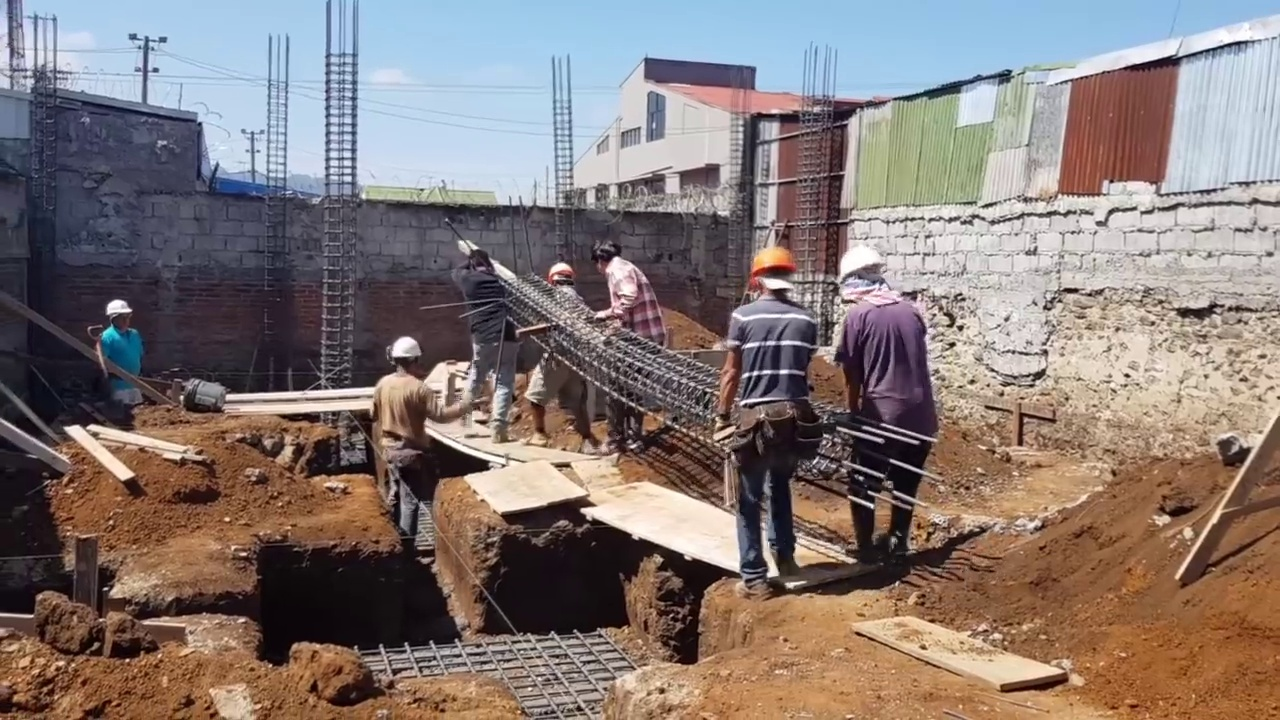helmet: (837, 243, 886, 290), (745, 246, 798, 286), (390, 336, 423, 360), (553, 263, 579, 282), (106, 302, 130, 321)
helmet-off: (594, 237, 622, 273), (467, 252, 493, 272)
helmet-on: (743, 244, 800, 308), (837, 244, 894, 302), (392, 337, 423, 376), (104, 303, 132, 338), (546, 261, 579, 287)
person: (829, 242, 933, 592), (721, 250, 826, 593), (361, 335, 463, 566), (586, 230, 666, 483), (457, 252, 533, 448), (543, 250, 604, 446), (92, 300, 151, 399)
